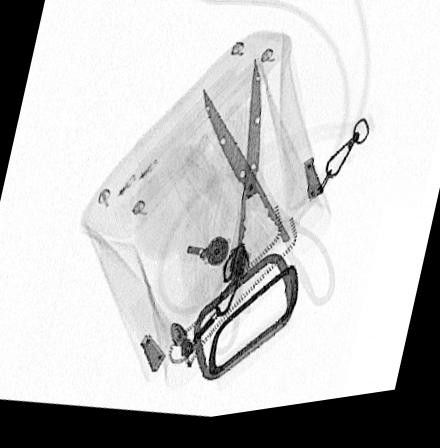Scissors: (203, 63, 336, 363)
